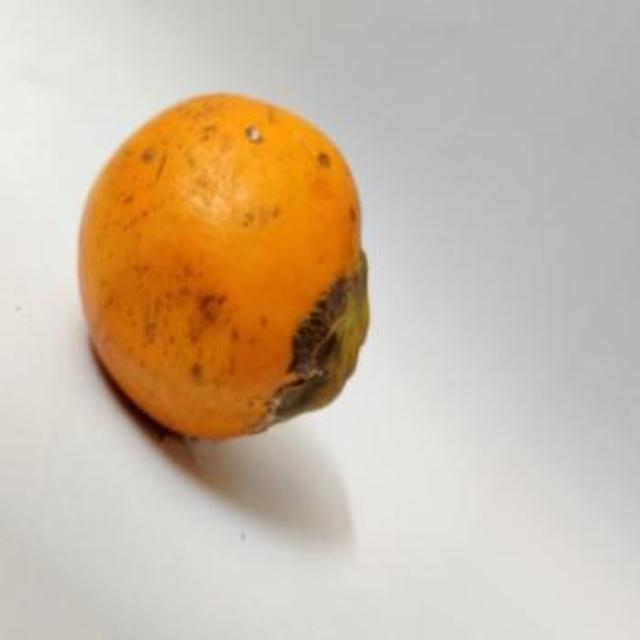good: (77, 93, 371, 443)
